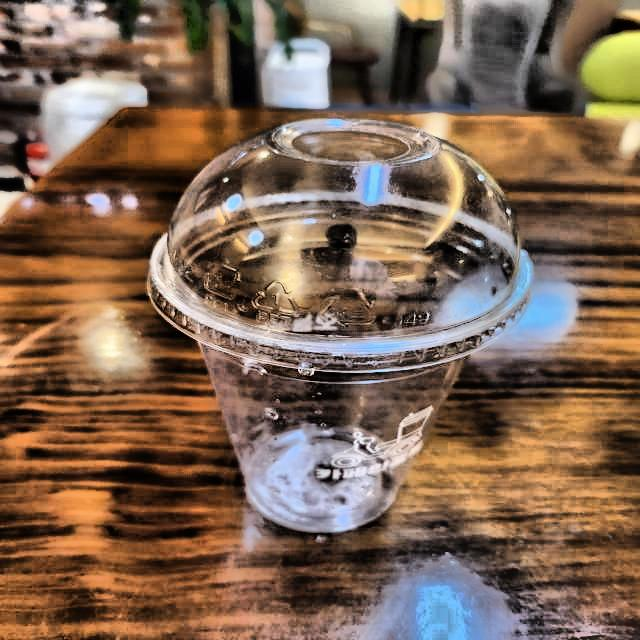plastic cup: (100, 83, 570, 578)
